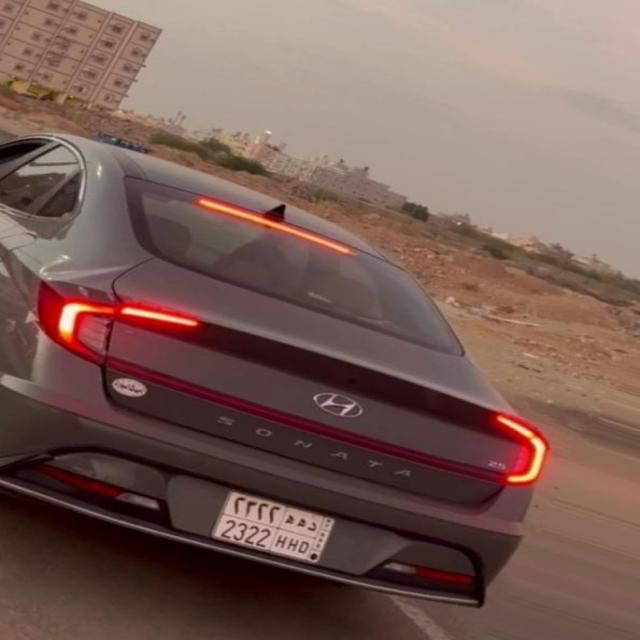Car-plate: (200, 464, 354, 582)
